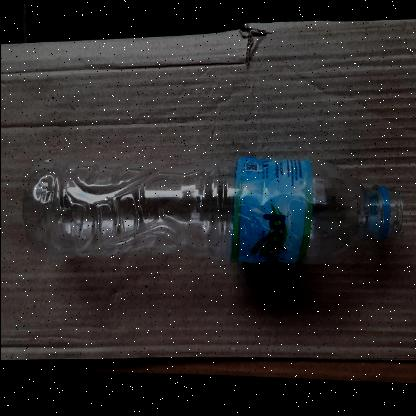Plastic Bottle: (22, 157, 404, 265)
